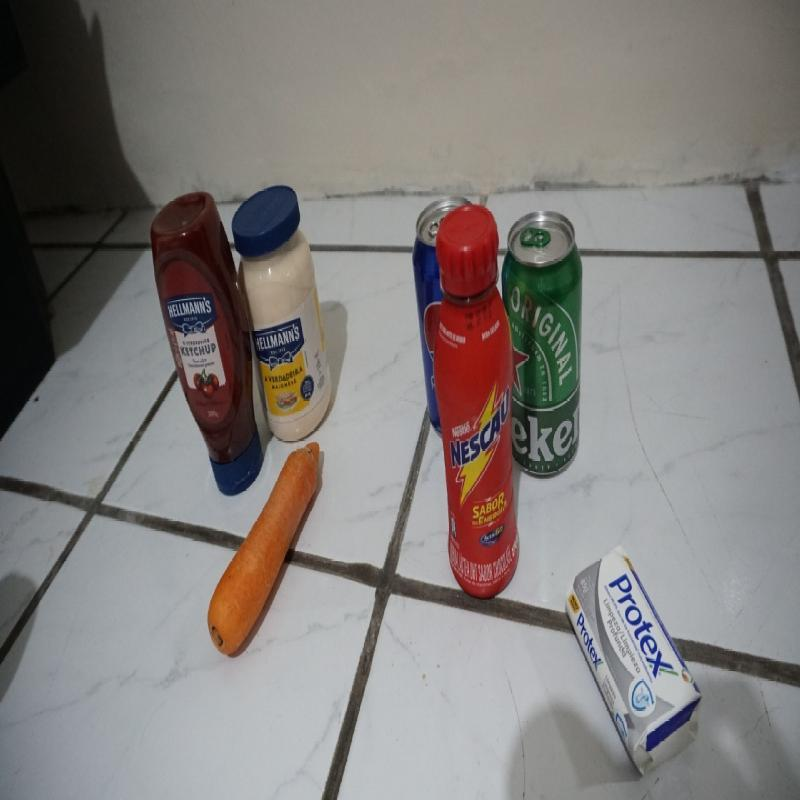Beer can: (510, 213, 580, 478)
Carrot: (214, 447, 318, 662)
Chocolate Milk: (438, 213, 518, 592)
Ketchup: (151, 200, 260, 490)
Mayonnaise: (237, 189, 330, 440)
Soap: (567, 549, 702, 782)
Soda can: (412, 201, 440, 435)
